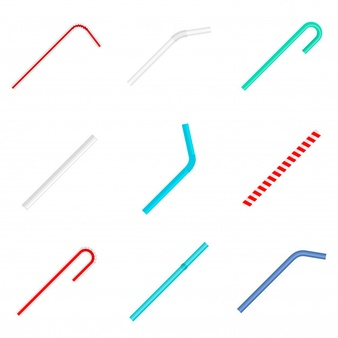Drinking Straw: (128, 241, 211, 324), (239, 128, 324, 208), (10, 21, 103, 91), (19, 133, 100, 213), (235, 247, 329, 314), (15, 244, 98, 319), (240, 20, 324, 93), (125, 24, 213, 89), (140, 120, 199, 216)
